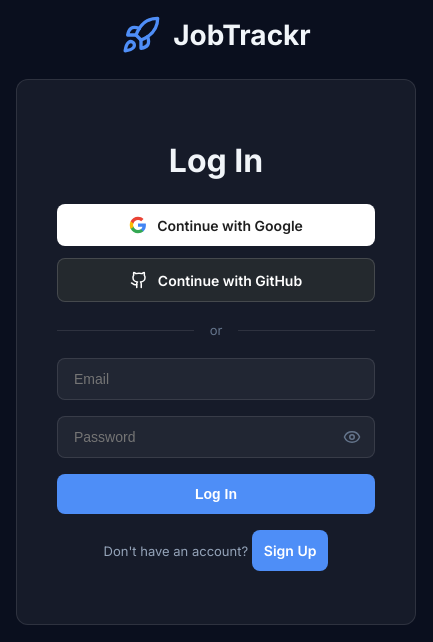
it: Login page › toggles between Log In and Sign Up
The image size is (433, 642).
Click the button "Sign Up": (290, 551) [252,530,328,571]
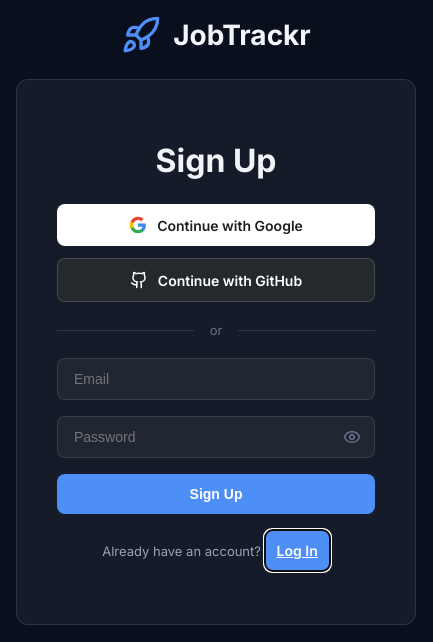
Expected: the heading "Sign Up" is shown, [156,141,276,180]
